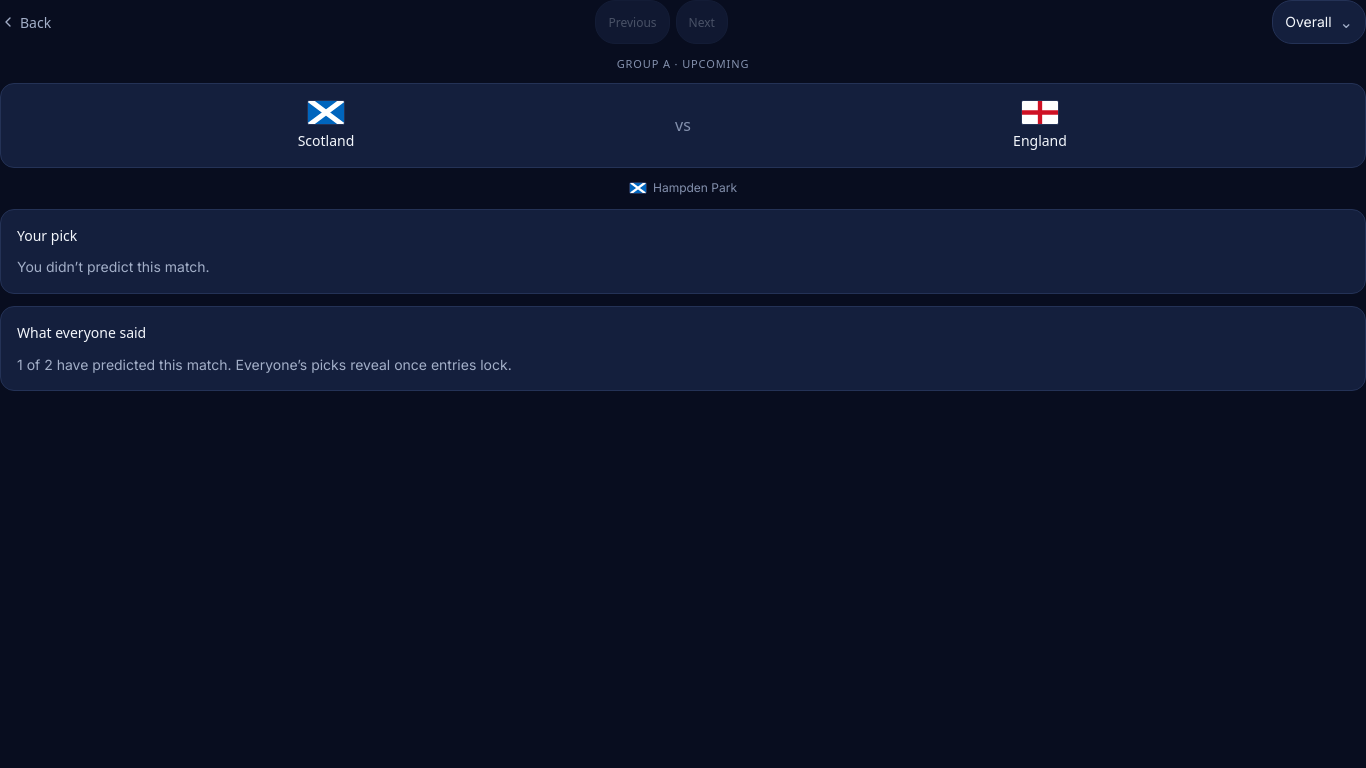
Scenario: MatchCentreScreen league scope availability › renders the scope selector only after a successful league response
The width and height of the screenshot is (1366, 768).
Step 1. Click the button "Overall ⌄" → (1319, 22), box [1272,0,1365,44]
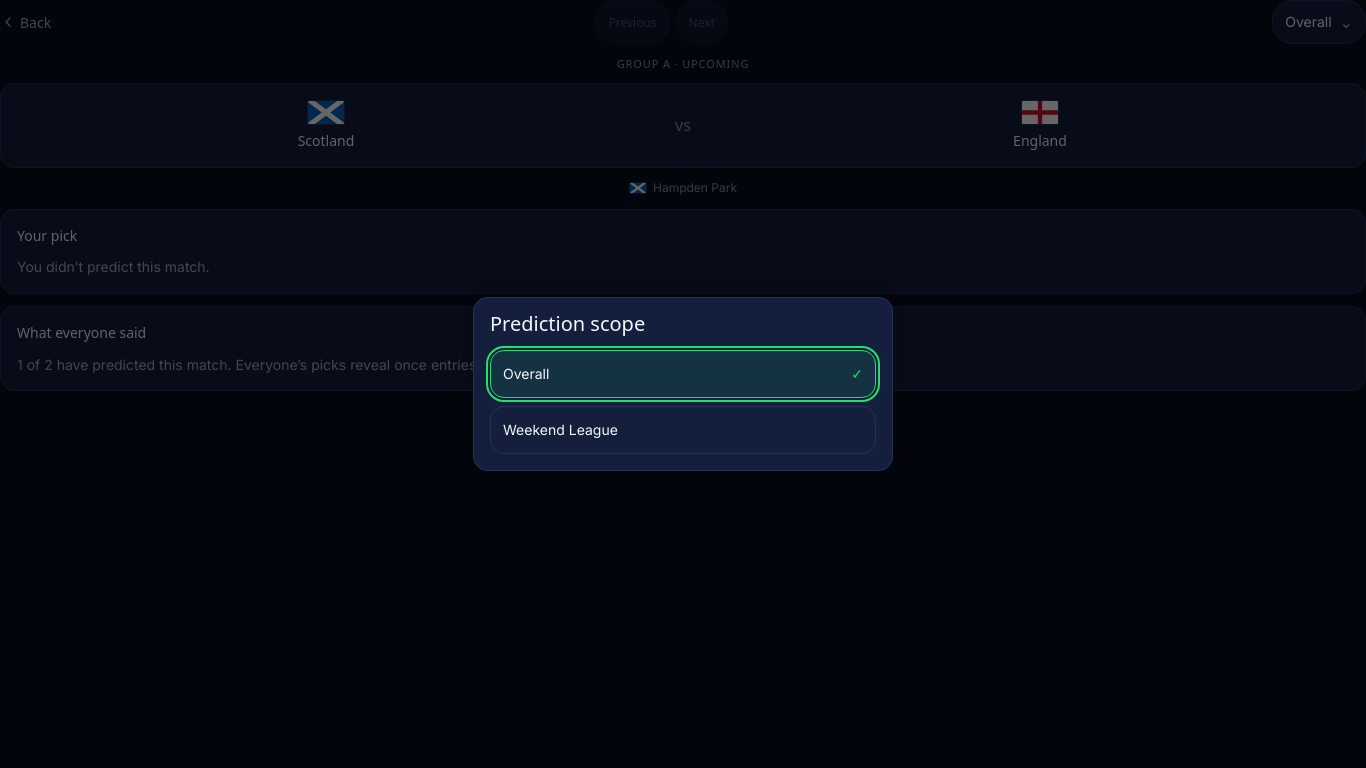
Expected: the dialog "Prediction scope" is shown, [473,297,893,471]
Expected: the radio button labelled "Weekend League" is shown, [490,406,876,454]
